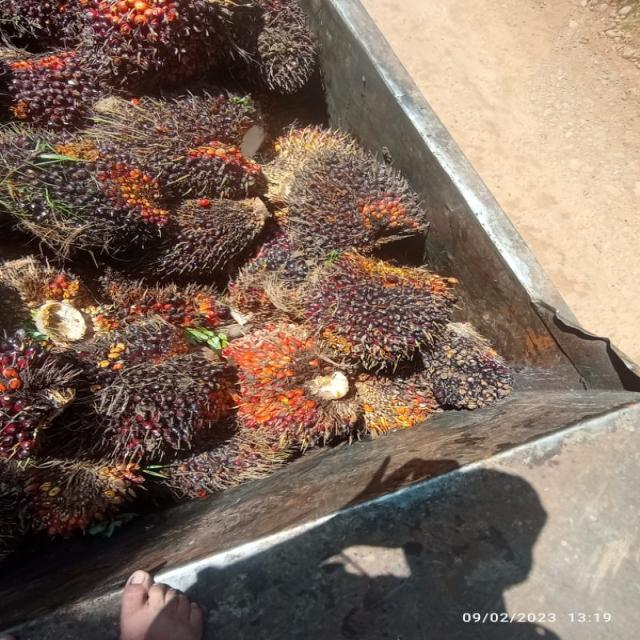fraksi 00: (3, 123, 183, 270), (287, 126, 437, 272), (83, 323, 233, 460), (110, 94, 268, 208), (141, 182, 287, 290), (418, 298, 532, 426), (2, 29, 120, 135), (79, 296, 183, 369)
fraksi 1: (283, 228, 457, 374)
fraksi 3: (228, 320, 350, 460)
